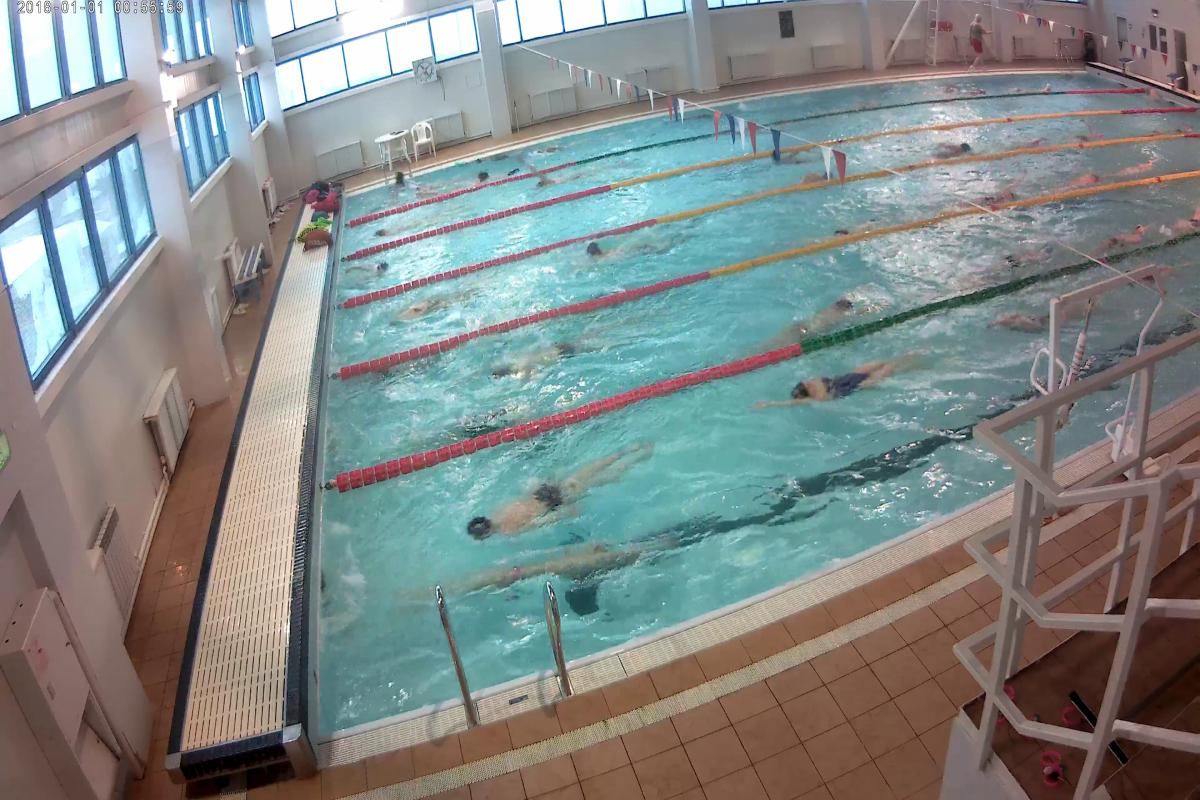swimmer: (462, 437, 655, 537), (748, 348, 930, 409), (764, 290, 874, 351), (480, 330, 601, 382), (579, 230, 677, 262), (392, 290, 473, 327), (968, 175, 1026, 206), (1101, 221, 1151, 249), (345, 256, 394, 284), (932, 138, 974, 160)
